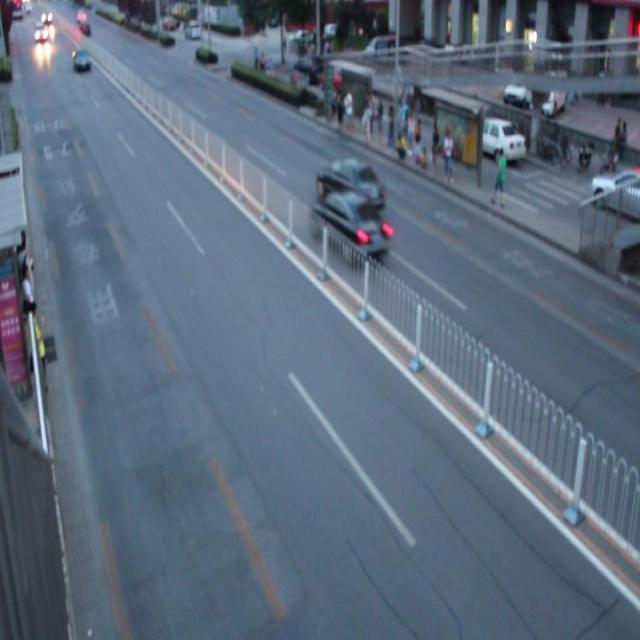car: (309, 188, 388, 266), (317, 155, 383, 210)
